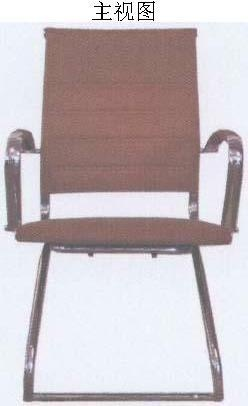obstacle: (5, 28, 242, 400)
